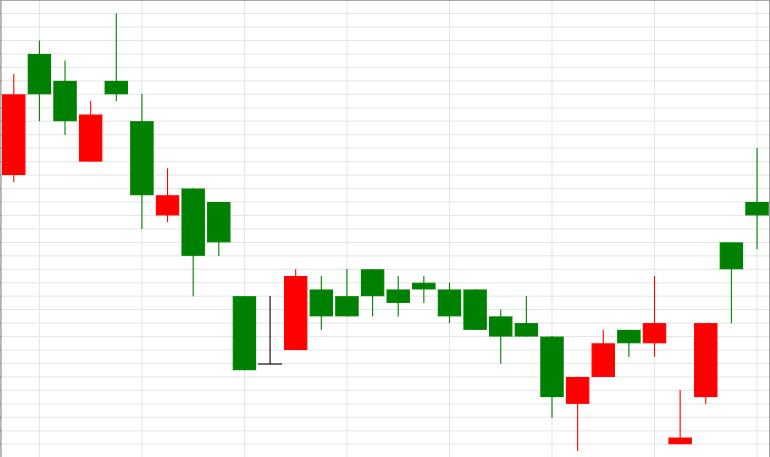hammer_rise: (361, 269, 589, 451)
